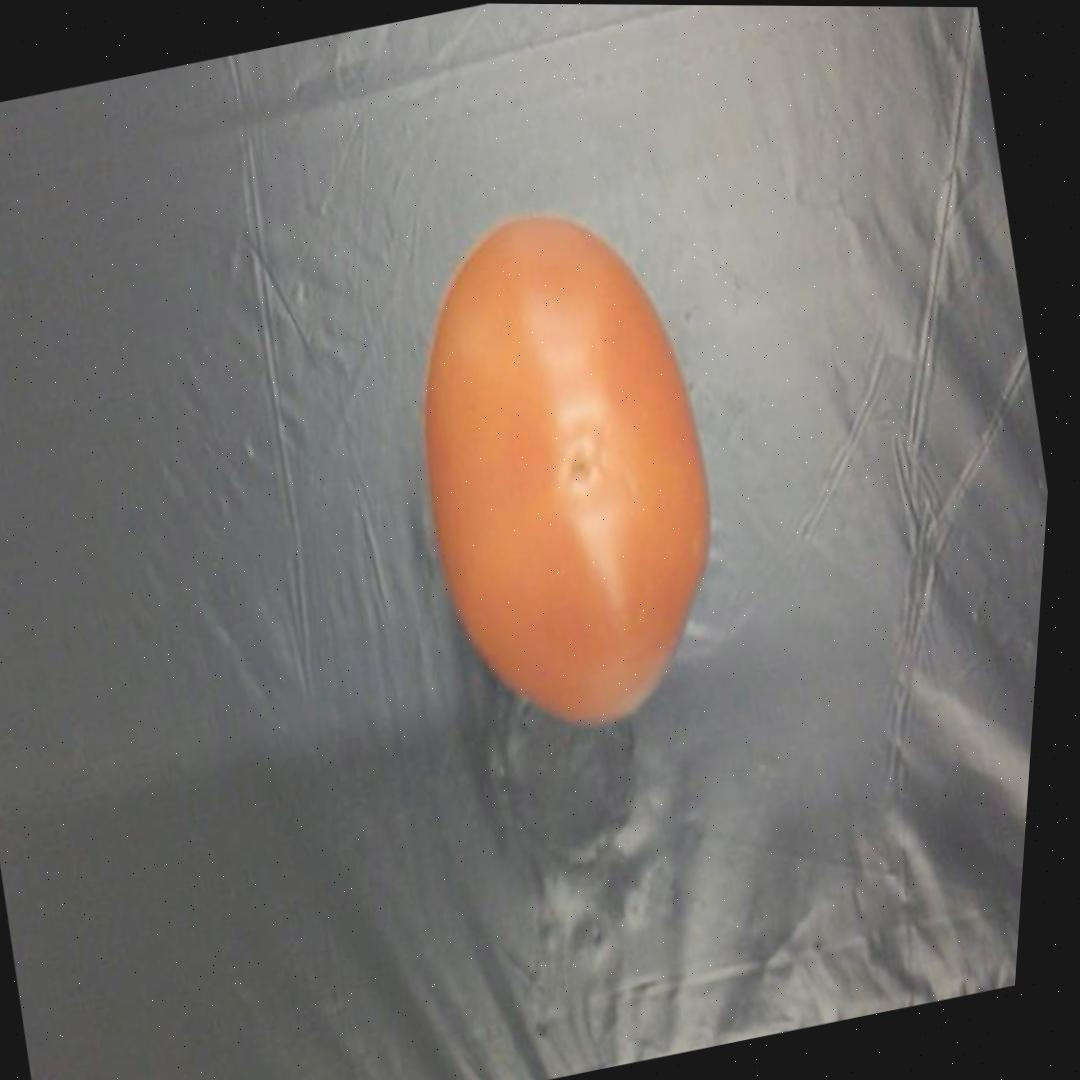matang: (361, 191, 772, 750)
